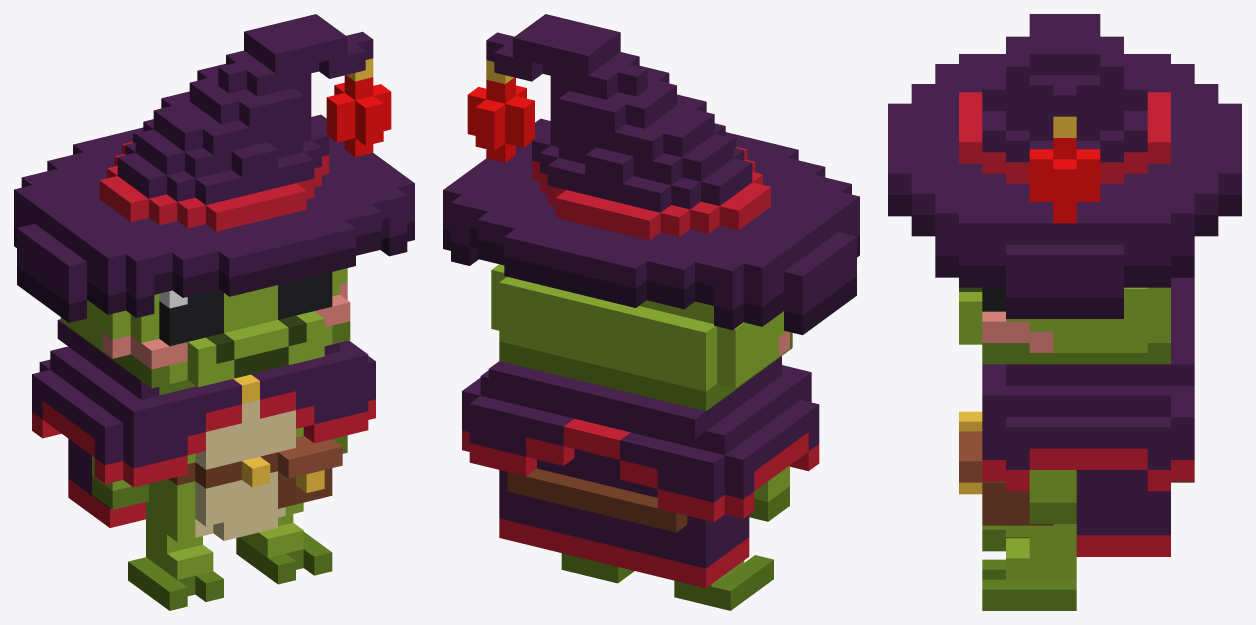
The model's file is frog_wizard.fbx.
The picture shows the model from 3 angles, left to right: view 1: azimuth 30°, elevation 25°; view 2: azimuth 150°, elevation 25°; view 3: azimuth 270°, elevation 25°; orthographic projection. The views are drawn at different scales.
Parts seen in each view (by area): view 1: VX_FrogWizardHead, VX_FrogWizardTorso, VX_FrogWizardLegR, VX_FrogWizardGlow, VX_FrogWizardLegL, VX_FrogWizardArmR; view 2: VX_FrogWizardHead, VX_FrogWizardTorso, VX_FrogWizardGlow, VX_FrogWizardLegR, VX_FrogWizardArmR, VX_FrogWizardLegL; view 3: VX_FrogWizardHead, VX_FrogWizardTorso, VX_FrogWizardLegL, VX_FrogWizardGlow, VX_FrogWizardArmL, VX_FrogWizardLegR.
Part boxes in pixels (x1,y1,x2,y2): VX_FrogWizardHead: [14, 14, 414, 395]; VX_FrogWizardTorso: [32, 319, 375, 541]; VX_FrogWizardLegR: [128, 519, 223, 610]; VX_FrogWizardGlow: [326, 75, 391, 156]; VX_FrogWizardLegL: [236, 514, 332, 584]; VX_FrogWizardArmR: [92, 456, 148, 509]; VX_FrogWizardHead: [443, 14, 859, 411]; VX_FrogWizardTorso: [462, 356, 819, 588]; VX_FrogWizardGlow: [467, 77, 534, 162]; VX_FrogWizardLegR: [674, 555, 773, 610]; VX_FrogWizardArmR: [749, 465, 789, 521]; VX_FrogWizardLegL: [561, 553, 634, 583]; VX_FrogWizardHead: [888, 14, 1241, 364]; VX_FrogWizardTorso: [959, 277, 1194, 556]; VX_FrogWizardLegL: [982, 537, 1076, 610]; VX_FrogWizardGlow: [1029, 138, 1100, 223]; VX_FrogWizardArmL: [1029, 470, 1076, 523]; VX_FrogWizardLegR: [982, 525, 1029, 551].
Size of the model in its own units: 190 by 270 by 150.
2 materials, 2 textured.
